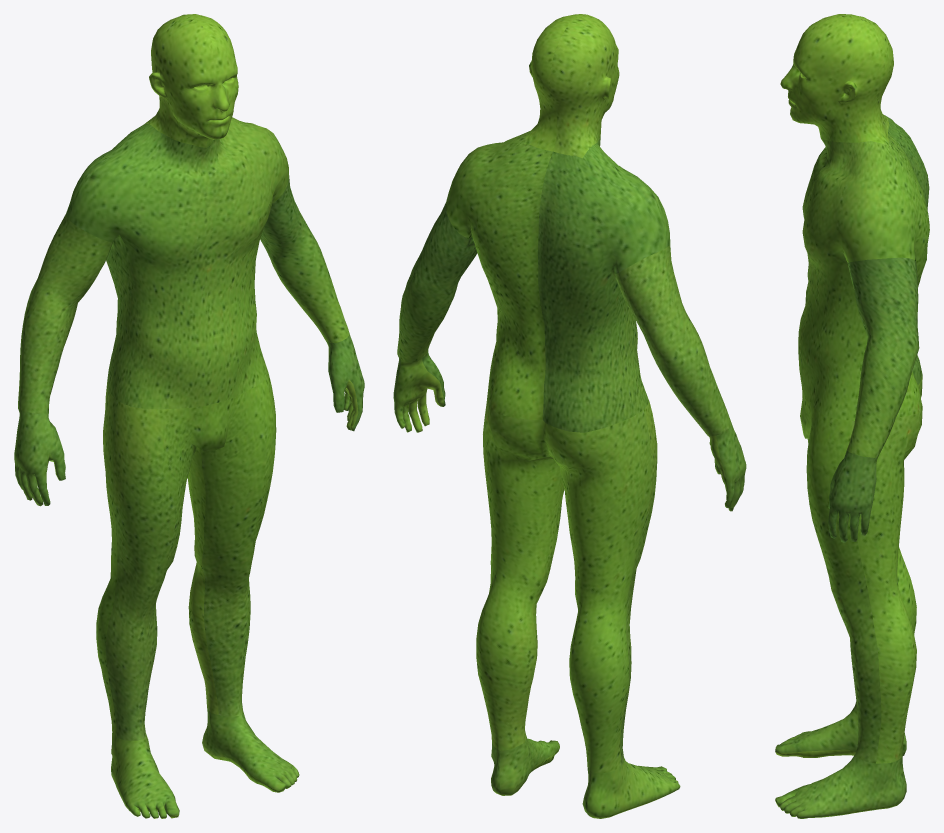
Rendered from character-4.obj.
3 renders of one model, left to right at view 1: azimuth 30°, elevation 25°; view 2: azimuth 150°, elevation 25°; view 3: azimuth 270°, elevation 25°, orthographic.
Visible parts, largest first — view 1: Realistic_White_Male_Low_Poly:Realistic_White_Male_Low_Poly; view 2: Realistic_White_Male_Low_Poly:Realistic_White_Male_Low_Poly; view 3: Realistic_White_Male_Low_Poly:Realistic_White_Male_Low_Poly.
Boxes of the visible parts, x1,y1,x2,y2 form: Realistic_White_Male_Low_Poly:Realistic_White_Male_Low_Poly: (14,14,364,818); Realistic_White_Male_Low_Poly:Realistic_White_Male_Low_Poly: (393,14,746,818); Realistic_White_Male_Low_Poly:Realistic_White_Male_Low_Poly: (775,14,929,818).
Bounding box in the file's own units: 33.63 × 72.02 × 13.22.
Materials: 1 (1 with a texture image).
